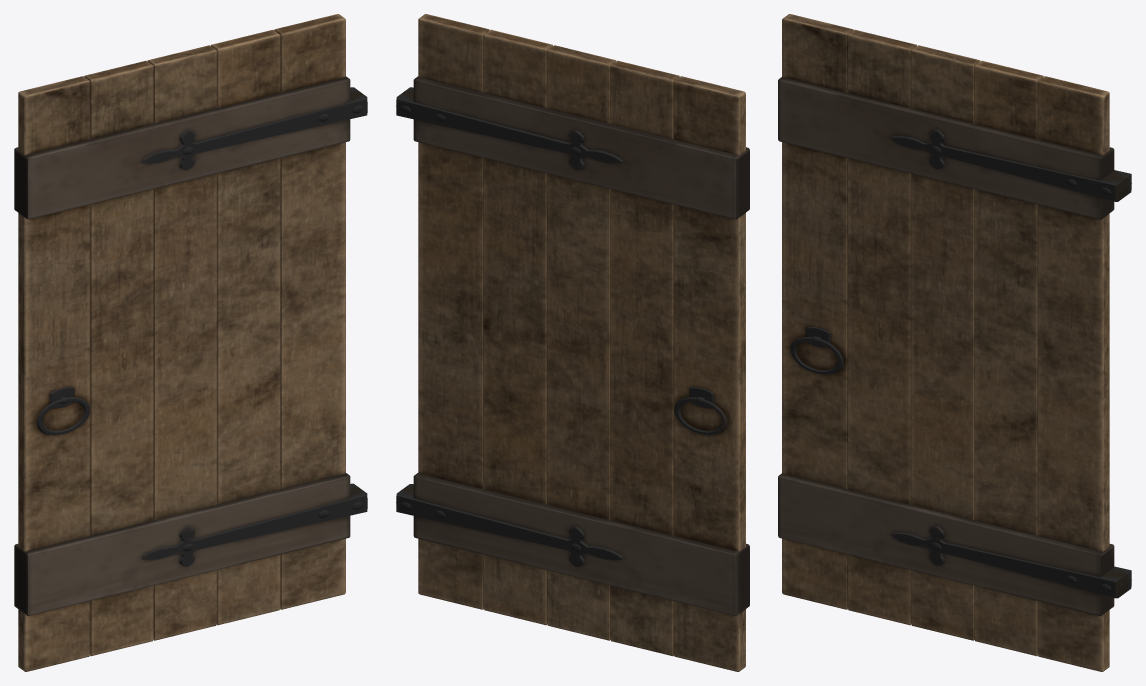
File: BW_FamilyCottageB01_MainDoor.fbx
3 renders of one model, left to right at view 1: azimuth 30°, elevation 25°; view 2: azimuth 150°, elevation 25°; view 3: azimuth 330°, elevation 25°, orthographic.
Parts seen in each view (by area): view 1: BW_FamilyCottageB01_MainDoor; view 2: BW_FamilyCottageB01_MainDoor; view 3: BW_FamilyCottageB01_MainDoor.
Part boxes in pixels (left/top/right/bottom): BW_FamilyCottageB01_MainDoor: left=14, top=14, right=367, bottom=671; BW_FamilyCottageB01_MainDoor: left=396, top=14, right=749, bottom=671; BW_FamilyCottageB01_MainDoor: left=778, top=14, right=1131, bottom=671.
Bounding box in the file's own units: 1.47 × 2.37 × 0.1318.
